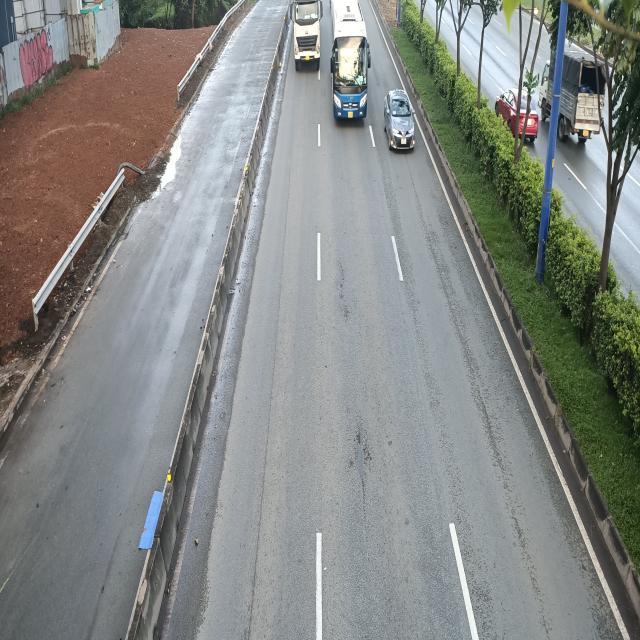car: (384, 90, 418, 152)
coach: (331, 1, 372, 123)
container: (289, 2, 322, 73)
